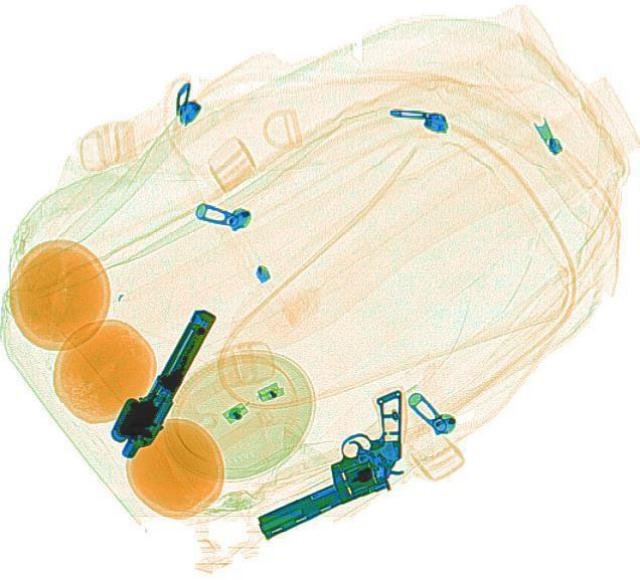Gun: (218, 387, 446, 542), (98, 298, 225, 461)
